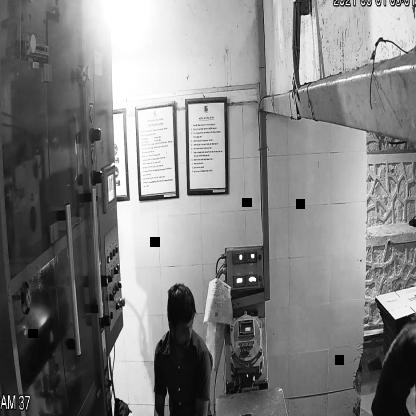no_goggles: (165, 314, 196, 340)
